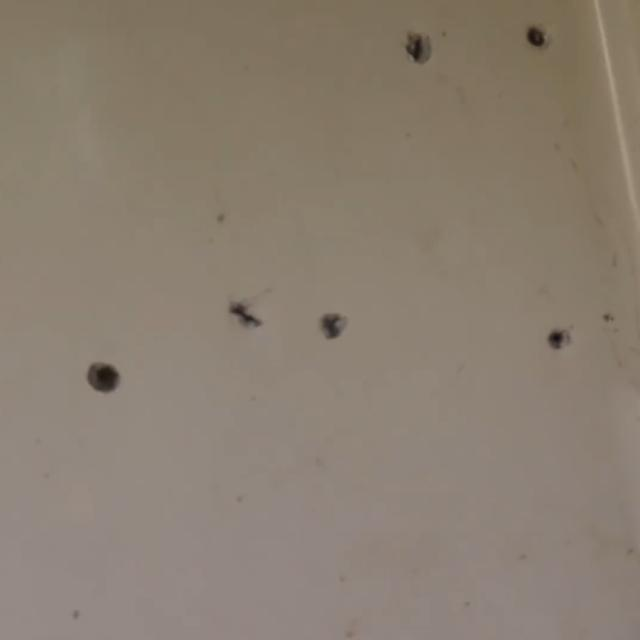bullets: (84, 356, 122, 397), (316, 312, 348, 340), (406, 32, 434, 64), (547, 328, 572, 353), (528, 24, 550, 52)
